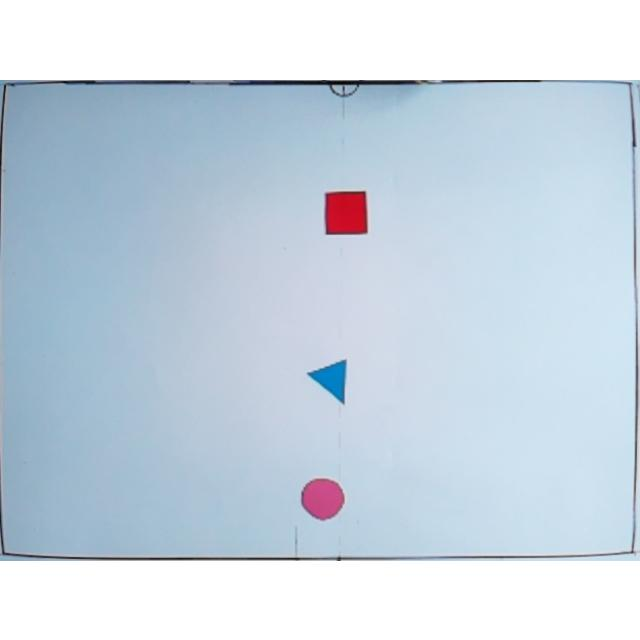blueTriangle: (306, 355, 348, 405)
pinkCircle: (300, 474, 346, 520)
redSquare: (323, 188, 371, 236)
